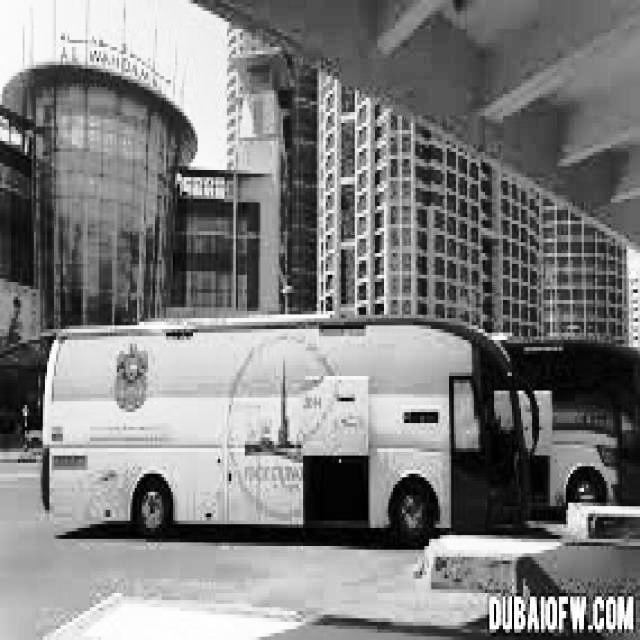Bus: (28, 300, 539, 562), (524, 281, 640, 539)
